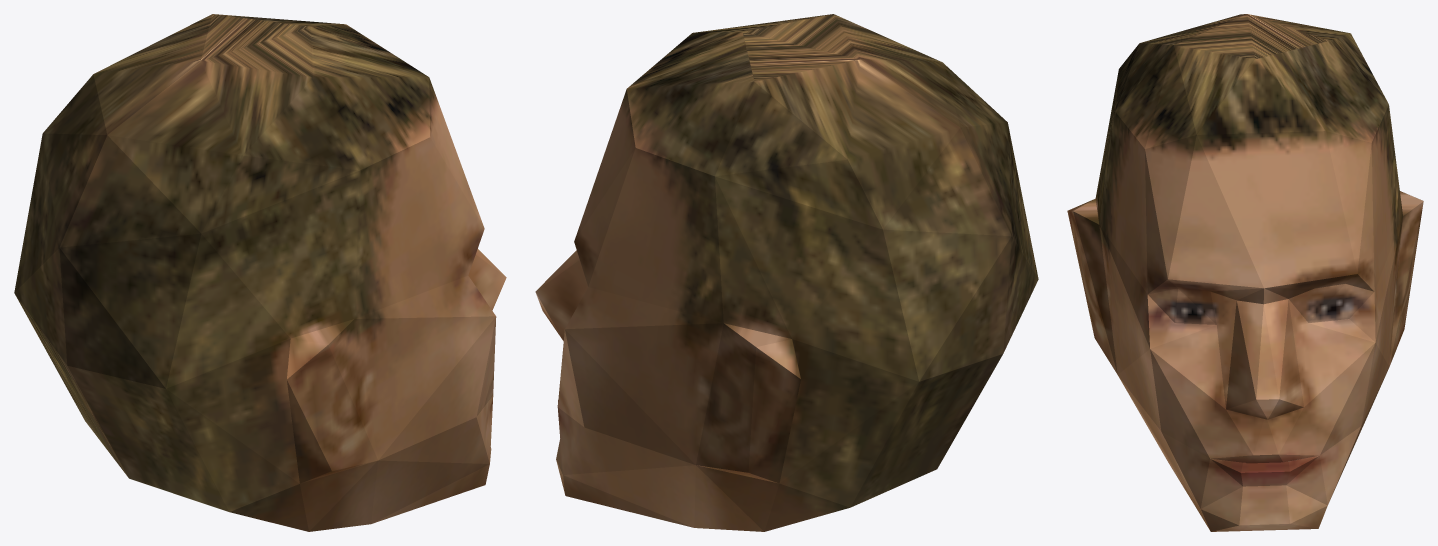
Rendered from FLEX.glb.
The picture shows the model from 3 angles, left to right: view 1: azimuth 30°, elevation 25°; view 2: azimuth 150°, elevation 25°; view 3: azimuth 270°, elevation 25°; orthographic projection. The views are drawn at different scales.
Parts seen in each view (by area): view 1: zm_Morph; view 2: zm_Morph; view 3: zm_Morph.
Part boxes in pixels (x1,y1,x2,y2): zm_Morph: [14, 14, 506, 531]; zm_Morph: [535, 14, 1038, 531]; zm_Morph: [1067, 14, 1423, 531].
Size of the model in its own units: 0.2326 by 0.2321 by 0.182.
Materials: 3 (3 with a texture image).
